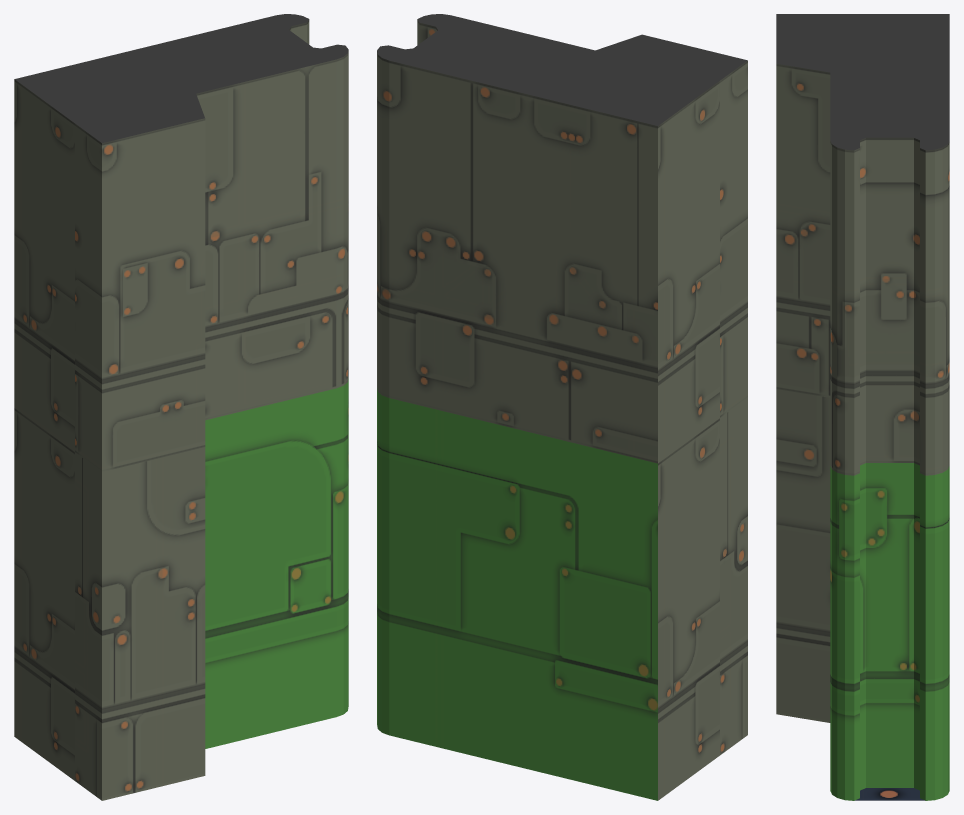
File: Env_Cnt_WallExterior_Pillar_L_Top.fbx
3 renders of one model, left to right at view 1: azimuth 30°, elevation 25°; view 2: azimuth 150°, elevation 25°; view 3: azimuth 270°, elevation 25°, orthographic. The views are drawn at different scales.
Parts seen in each view (by area): view 1: Wall_Exterior_Pillar_L_Top, Wall_Exterior_Pillar_L; view 2: Wall_Exterior_Pillar_L_Top, Wall_Exterior_Pillar_L; view 3: Wall_Exterior_Pillar_L_Top, Wall_Exterior_Pillar_L, Wall_Exterior_Pillar_L_Floor.
Boxes of the visible parts, x1,y1,x2,y2 form: Wall_Exterior_Pillar_L_Top: (14,14,348,471); Wall_Exterior_Pillar_L: (14,378,348,800); Wall_Exterior_Pillar_L_Top: (377,14,747,463); Wall_Exterior_Pillar_L: (377,388,747,800); Wall_Exterior_Pillar_L_Top: (776,14,949,475); Wall_Exterior_Pillar_L: (776,389,949,800); Wall_Exterior_Pillar_L_Floor: (855,788,924,800).
Bounding box in the file's own units: 89.98 × 200 × 48.32.
